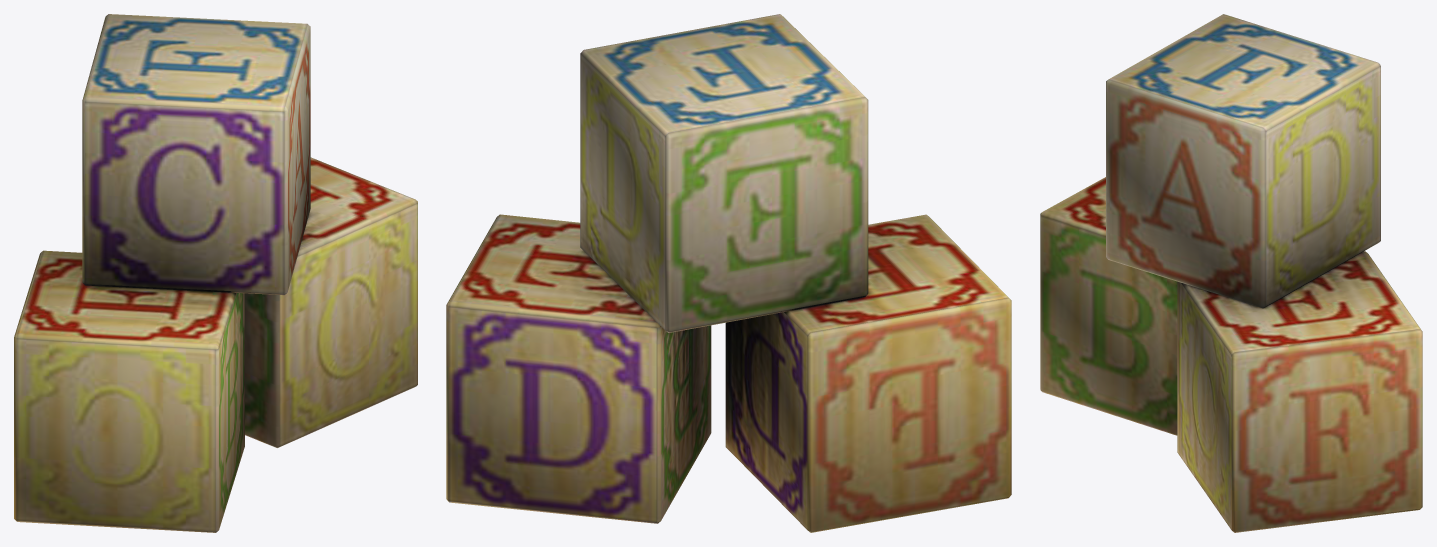
Rendered from blocks.fbx.
The picture shows the model from 3 angles, left to right: view 1: azimuth 30°, elevation 25°; view 2: azimuth 150°, elevation 25°; view 3: azimuth 270°, elevation 25°; orthographic projection. The views are drawn at different scales.
Visible parts, largest first — view 1: block; view 2: block; view 3: block.
Part boxes in pixels (bbox=[...]): block: bbox=[14, 14, 417, 532]; block: bbox=[446, 14, 1011, 532]; block: bbox=[1040, 14, 1422, 532].
Bounding box in the file's own units: 8.86 × 7.18 × 6.89.
